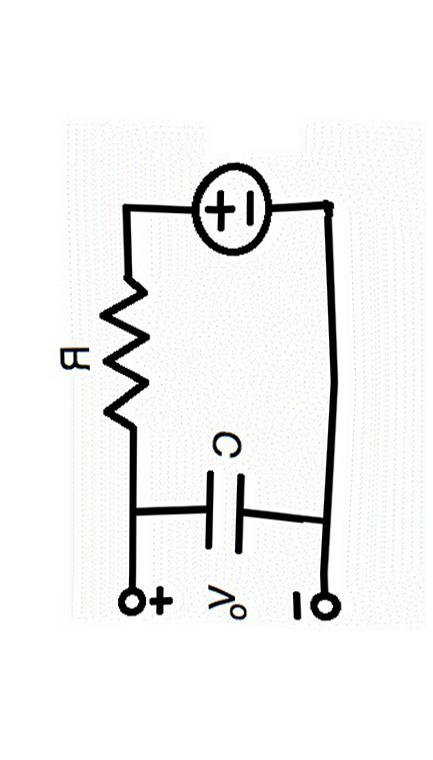Battery: (162, 146, 304, 273)
